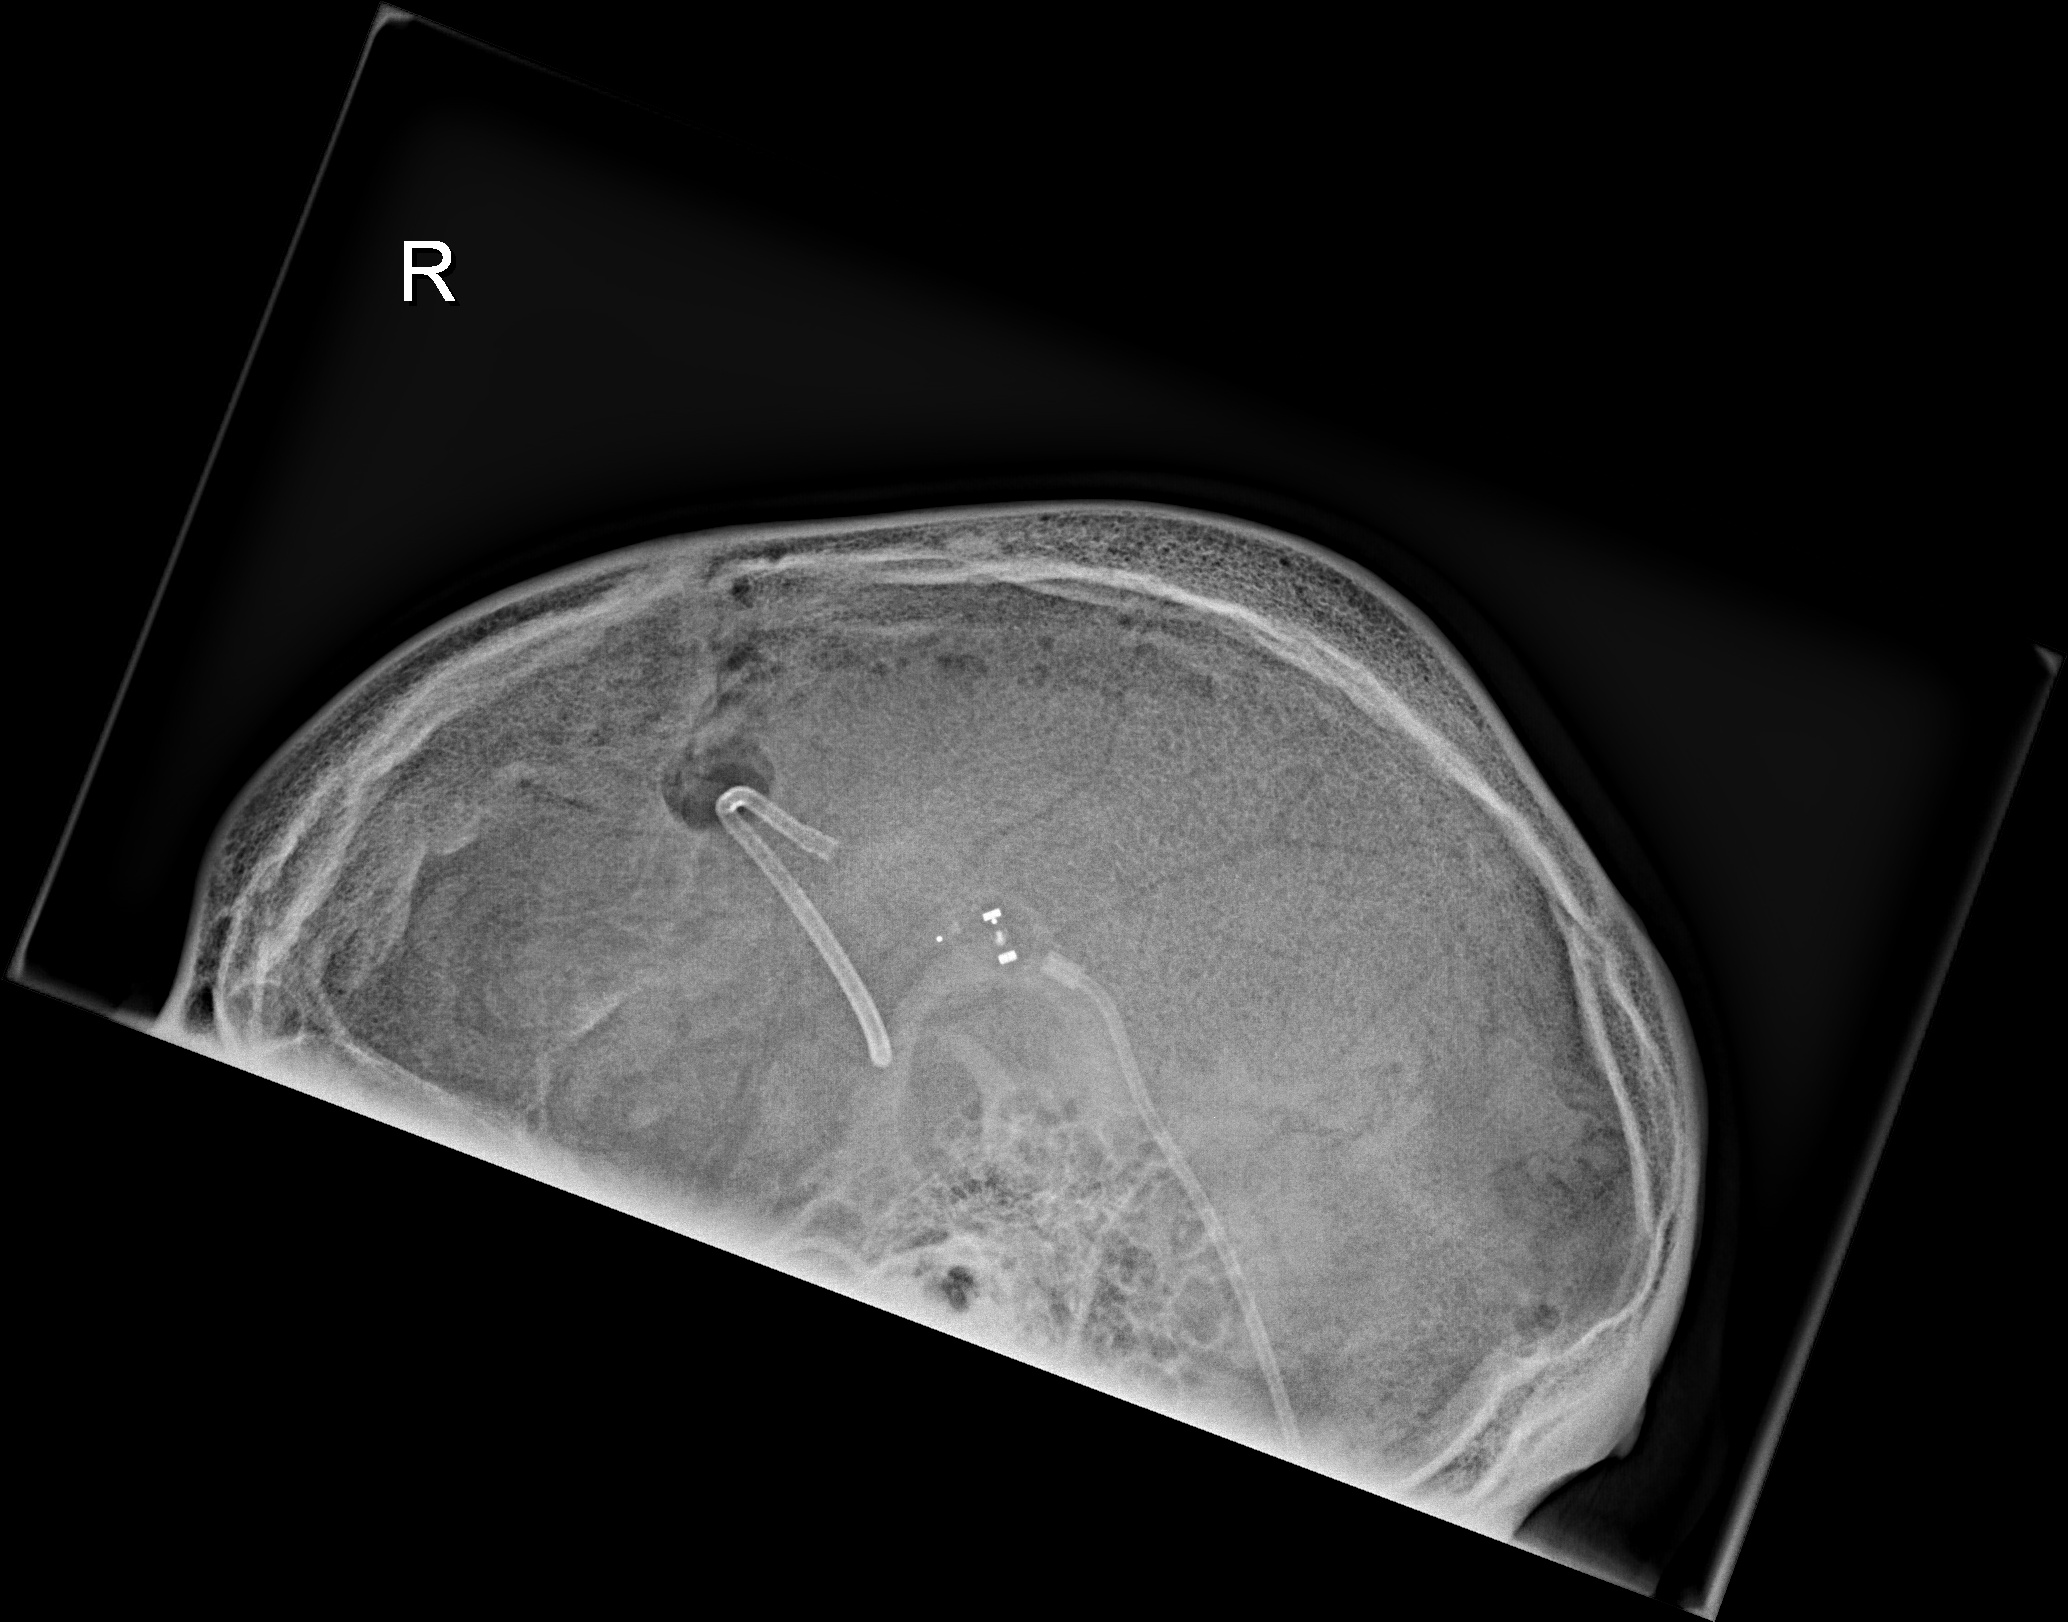Codman Certas: (922, 876, 1059, 989)
